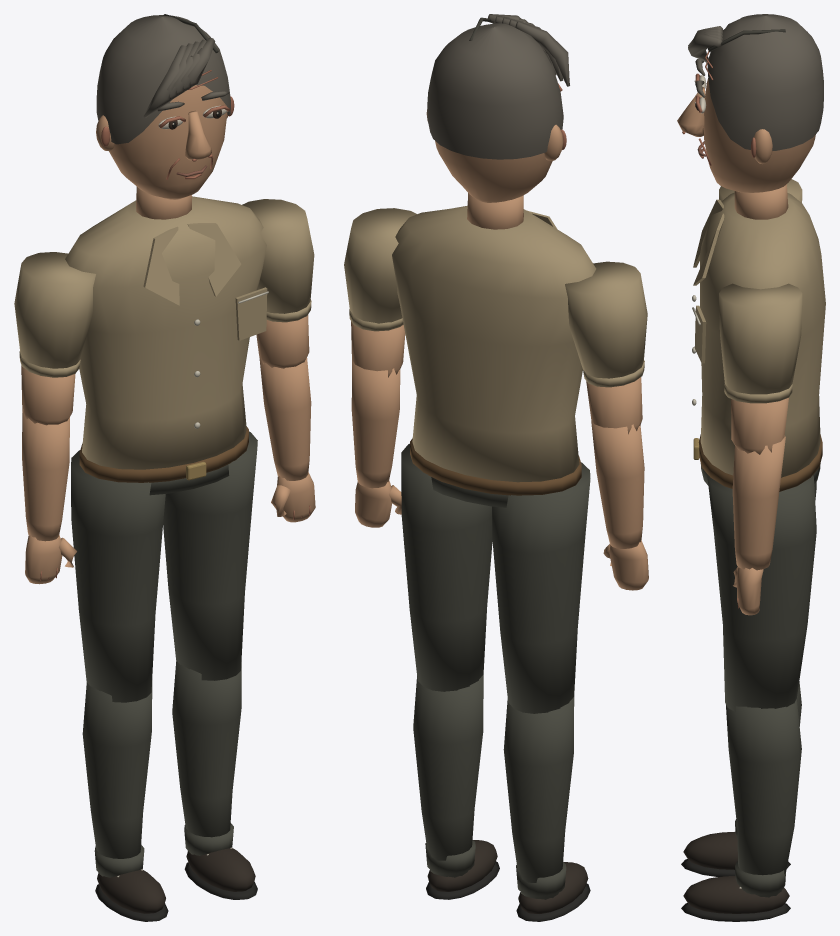
Rendered from templekeeper.glb.
The picture shows the model from 3 angles, left to right: view 1: azimuth 30°, elevation 25°; view 2: azimuth 150°, elevation 25°; view 3: azimuth 270°, elevation 25°; orthographic projection.
Parts seen in each view (by area): view 1: body.002_mesh, head.002_mesh, legL.002_mesh, legR.002_mesh, shinR.002_mesh, shinL.002_mesh, armL.002_mesh, armR.002_mesh, forearmL.002_mesh, forearmR.002_mesh; view 2: body.002_mesh, head.002_mesh, legL.002_mesh, legR.002_mesh, shinR.002_mesh, shinL.002_mesh, armL.002_mesh, armR.002_mesh, forearmL.002_mesh, forearmR.002_mesh; view 3: body.002_mesh, head.002_mesh, legR.002_mesh, shinR.002_mesh, armR.002_mesh, forearmR.002_mesh, shinL.002_mesh, armL.002_mesh.
Boxes of the visible parts, bbox=[...] form: body.002_mesh: bbox=[65, 186, 268, 495]; head.002_mesh: bbox=[96, 14, 234, 199]; legL.002_mesh: bbox=[71, 450, 165, 702]; legR.002_mesh: bbox=[163, 431, 257, 680]; shinR.002_mesh: bbox=[172, 661, 257, 899]; shinL.002_mesh: bbox=[82, 680, 168, 921]; armL.002_mesh: bbox=[14, 252, 95, 425]; armR.002_mesh: bbox=[242, 199, 314, 368]; forearmL.002_mesh: bbox=[22, 409, 76, 584]; forearmR.002_mesh: bbox=[259, 353, 315, 522]; body.002_mesh: bbox=[392, 193, 596, 507]; head.002_mesh: bbox=[426, 14, 569, 202]; legL.002_mesh: bbox=[492, 462, 590, 713]; legR.002_mesh: bbox=[401, 443, 492, 691]; shinR.002_mesh: bbox=[413, 675, 499, 899]; shinL.002_mesh: bbox=[503, 697, 590, 921]; armL.002_mesh: bbox=[565, 261, 647, 434]; armR.002_mesh: bbox=[344, 208, 416, 377]; forearmL.002_mesh: bbox=[591, 420, 648, 590]; forearmR.002_mesh: bbox=[351, 360, 401, 527]; body.002_mesh: bbox=[692, 184, 825, 491]; head.002_mesh: bbox=[677, 14, 823, 192]; legR.002_mesh: bbox=[707, 475, 816, 712]; shinR.002_mesh: bbox=[681, 699, 801, 921]; armR.002_mesh: bbox=[719, 283, 802, 454]; forearmR.002_mesh: bbox=[732, 435, 785, 615]; shinL.002_mesh: bbox=[681, 681, 801, 876]; armL.002_mesh: bbox=[719, 179, 802, 202].
Size of the model in its own units: 0.5483 by 1.57 by 0.2423.
